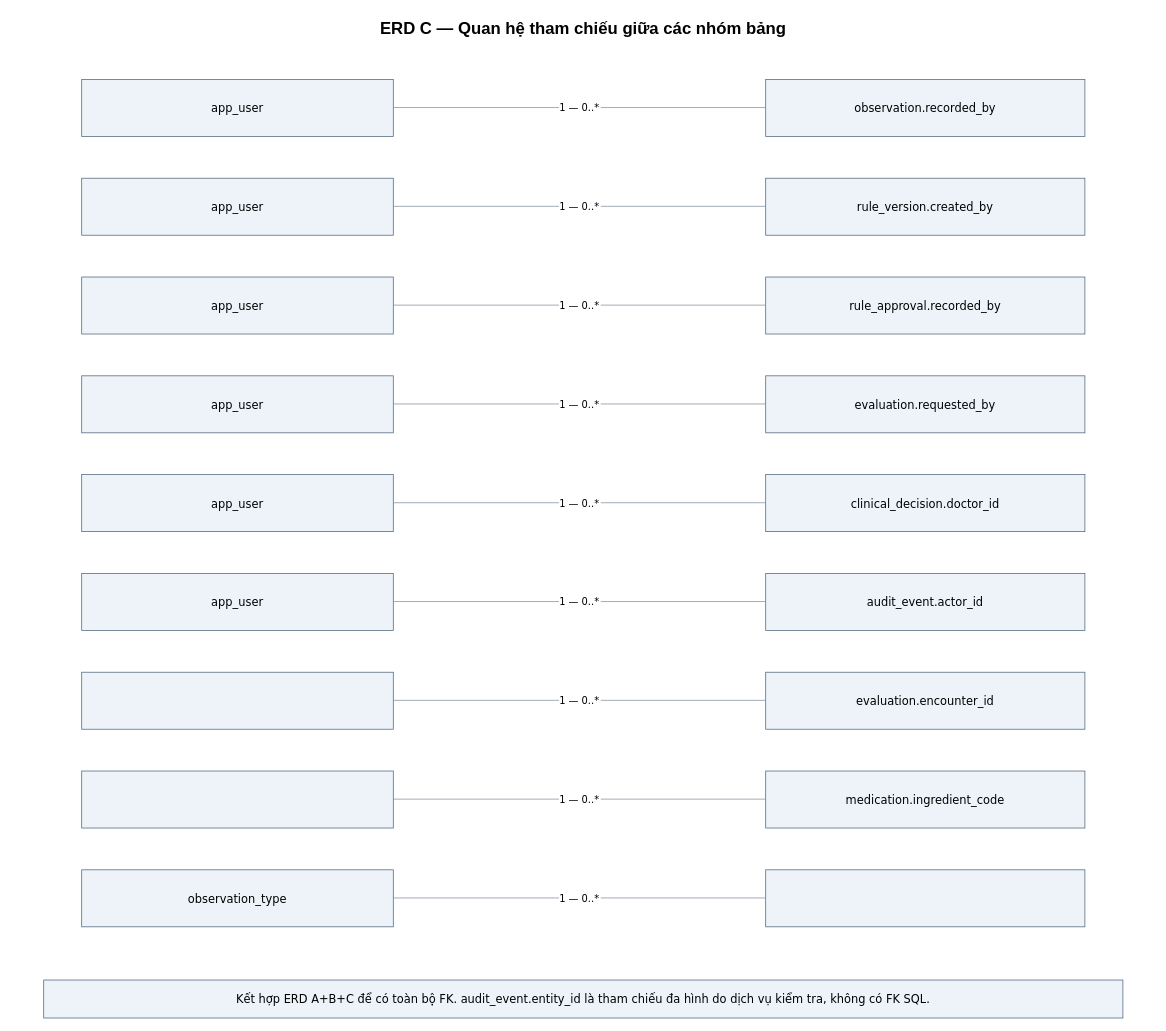
Image size: 1166x1031. Some labels were removed from this diagram. The shapes that lost their labels are listed below. From the top down, each one's centre as x and y in pixels, then its label:
At [237,700]: "encounter".
At [237,799]: "ingredient".
At [925,898]: "result_missing_field.field_code".
